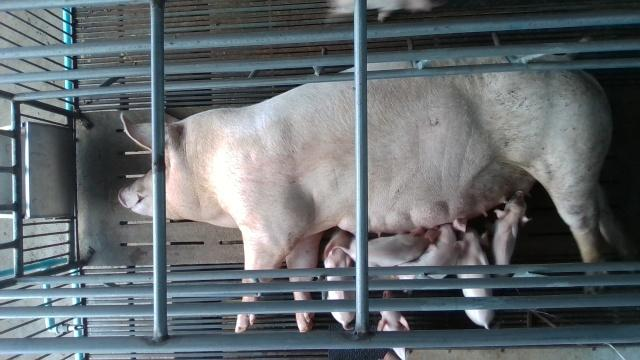piglet: (453, 230, 495, 329), (333, 229, 434, 267), (323, 228, 355, 330), (492, 191, 532, 265)
sow-sleep-lactate: (116, 57, 637, 333)
